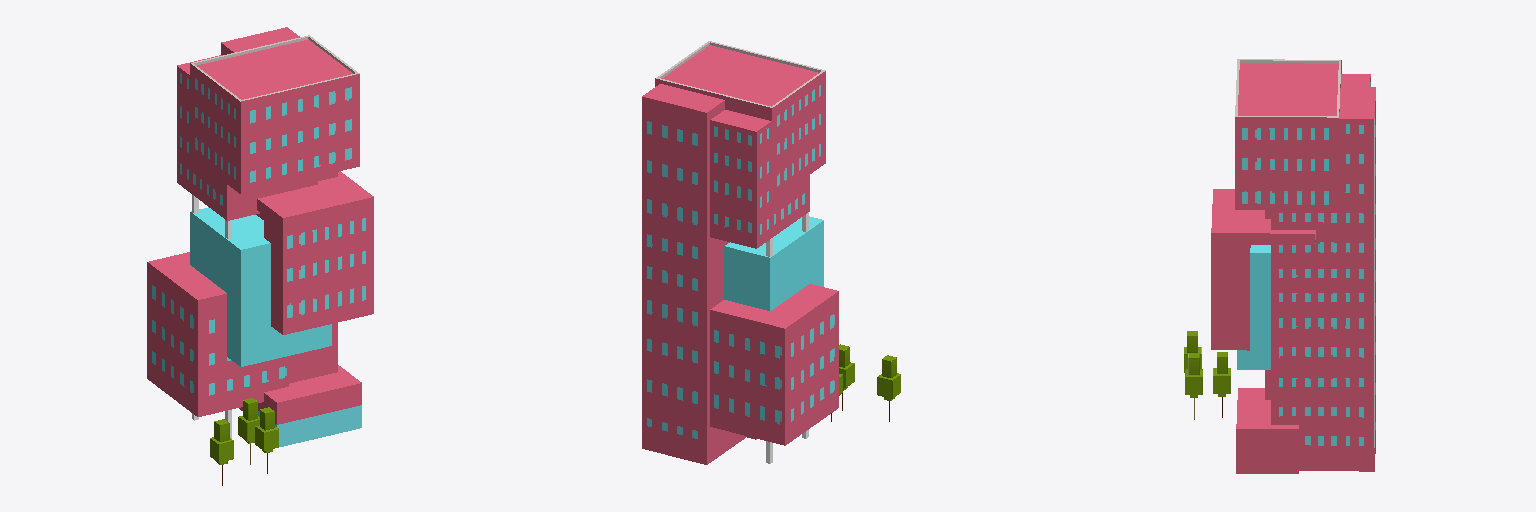
3 renders of one model, left to right at view 1: azimuth 30°, elevation 25°; view 2: azimuth 150°, elevation 25°; view 3: azimuth 270°, elevation 25°, orthographic.
Visible parts, largest first — view 1: business_shop_2lvl_Cube.006_Cube.003, Tree_2_3_61.409_Mesh.9274, Tree_2_3_61.408_Mesh.9273, Tree_2_3_61.410_Mesh.9275; view 2: business_shop_2lvl_Cube.006_Cube.003, Tree_2_3_61.409_Mesh.9274, Tree_2_3_61.408_Mesh.9273; view 3: business_shop_2lvl_Cube.006_Cube.003, Tree_2_3_61.408_Mesh.9273, Tree_2_3_61.410_Mesh.9275.
Boxes of the visible parts, box(x1,y1,x2,y2) form: business_shop_2lvl_Cube.006_Cube.003: box(147, 27, 373, 446); Tree_2_3_61.409_Mesh.9274: box(210, 419, 233, 485); Tree_2_3_61.408_Mesh.9273: box(255, 407, 278, 473); Tree_2_3_61.410_Mesh.9275: box(238, 398, 259, 464); business_shop_2lvl_Cube.006_Cube.003: box(642, 41, 838, 464); Tree_2_3_61.409_Mesh.9274: box(877, 355, 900, 421); Tree_2_3_61.408_Mesh.9273: box(839, 344, 854, 410); business_shop_2lvl_Cube.006_Cube.003: box(1211, 59, 1375, 473); Tree_2_3_61.408_Mesh.9273: box(1185, 354, 1202, 419); Tree_2_3_61.410_Mesh.9275: box(1213, 352, 1230, 417).
Bounding box in the file's own units: 1.76 × 3.52 × 1.71.
2 materials, 2 textured.